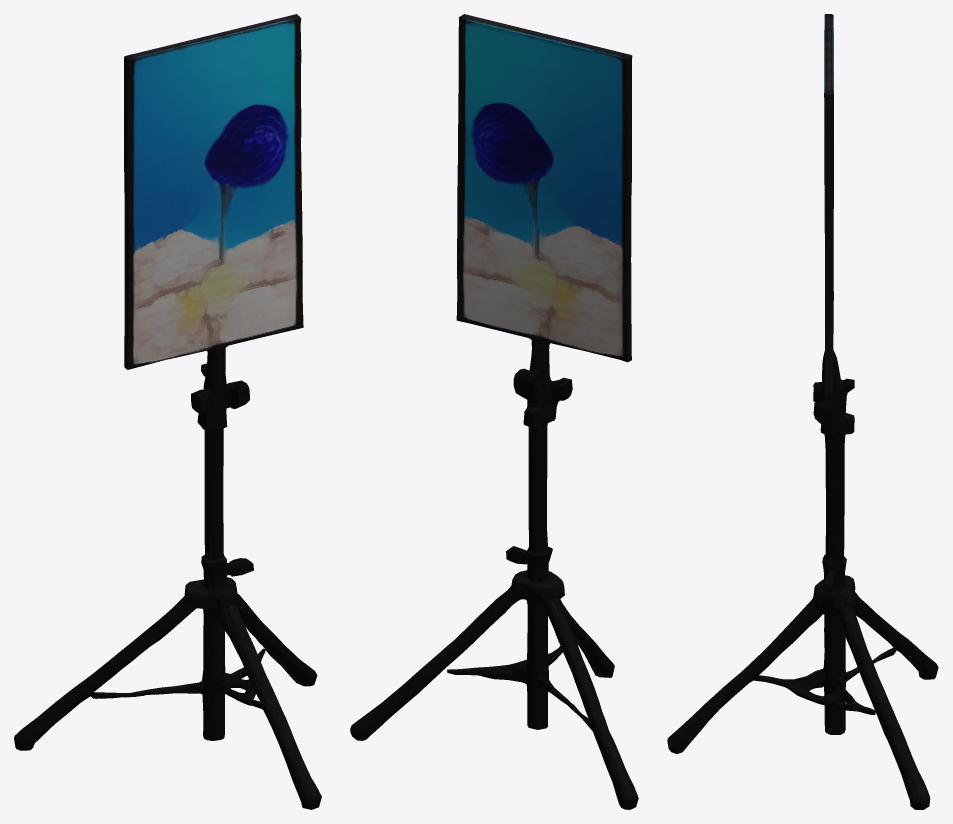
Rendered from floorTV2.glb.
3 renders of one model, left to right at view 1: azimuth 30°, elevation 25°; view 2: azimuth 150°, elevation 25°; view 3: azimuth 270°, elevation 25°, orthographic. The views are drawn at different scales.
Visible parts, largest first — view 1: geometry_0; view 2: geometry_0; view 3: geometry_0.
Boxes of the visible parts, x1,y1,x2,y2 form: geometry_0: [14, 14, 321, 809]; geometry_0: [350, 14, 638, 809]; geometry_0: [667, 14, 938, 809].
Bounding box in the file's own units: 0.4334 × 1 × 0.358.
1 material, 1 textured.
